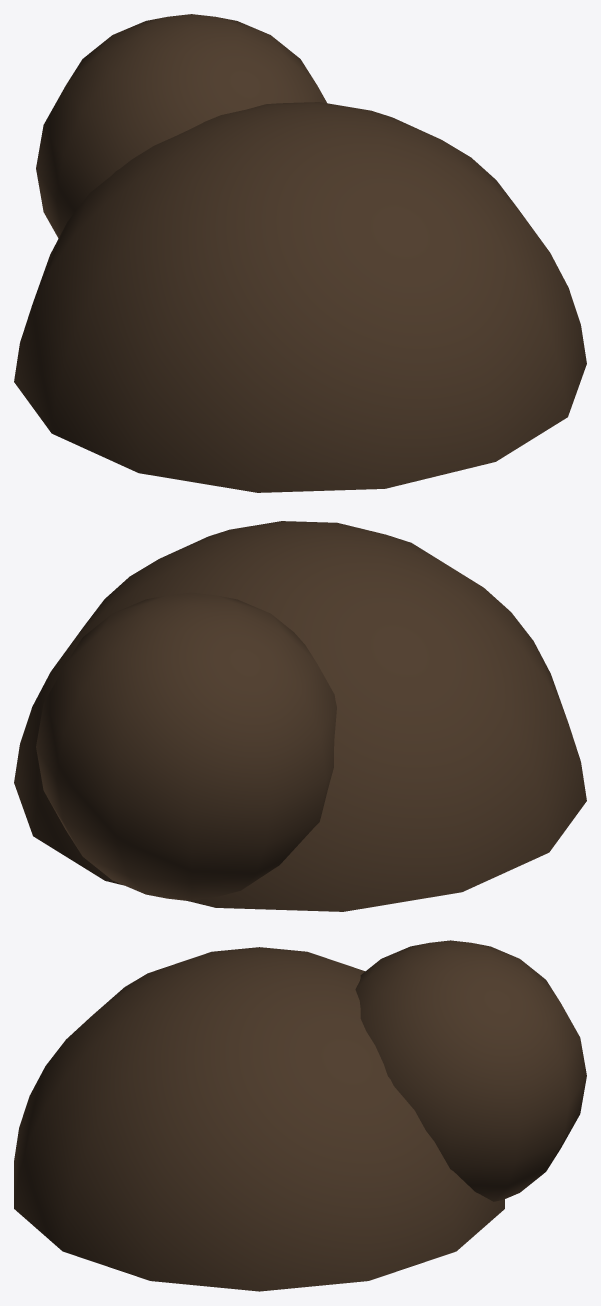
Rendered from hair_bun_f.glb.
The picture shows the model from 3 angles, top to bottom: view 1: azimuth 30°, elevation 25°; view 2: azimuth 150°, elevation 25°; view 3: azimuth 270°, elevation 25°; orthographic projection. The views are drawn at different scales.
Parts seen in each view (by area): view 1: hair_bun_f, hair_bun; view 2: hair_bun_f, hair_bun; view 3: hair_bun_f, hair_bun.
Boxes of the visible parts, x1,y1,x2,y2 form: hair_bun_f: (14,102,586,492); hair_bun: (36,14,326,238); hair_bun_f: (14,521,586,911); hair_bun: (36,592,336,900); hair_bun_f: (14,947,504,1291); hair_bun: (355,940,586,1201).
Bounding box in the file's own units: 0.3693 × 0.2 × 0.42.
